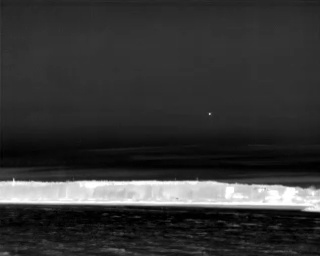HELICOPTER: (206, 110, 214, 119)
